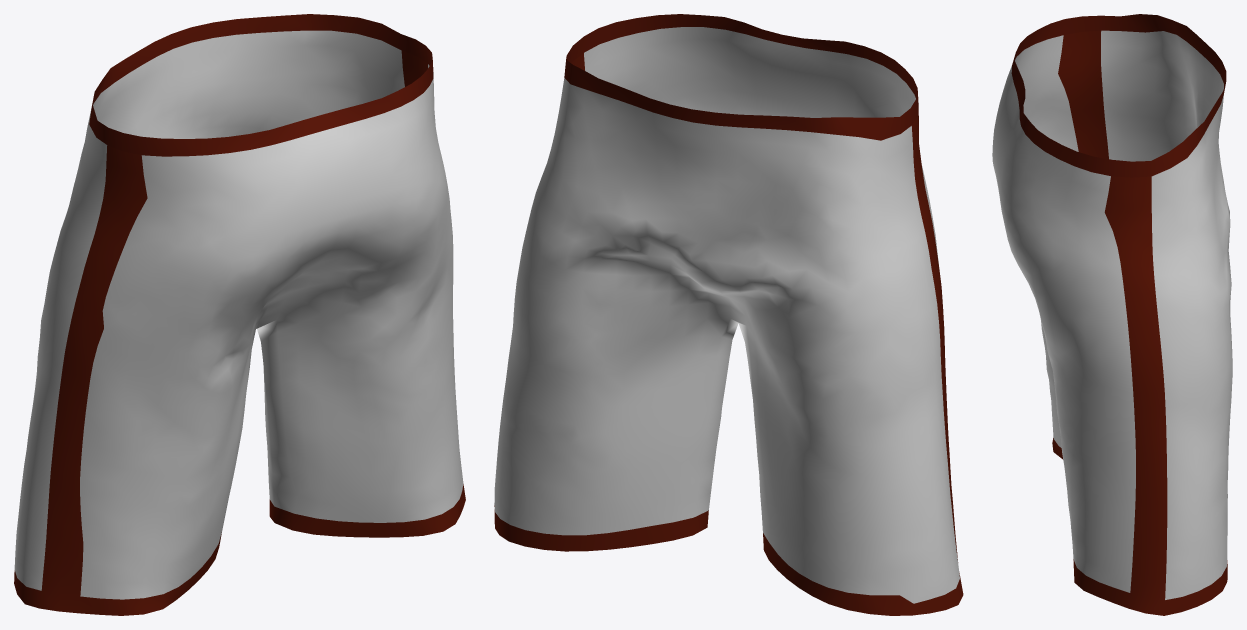
The model's file is shorts.fbx.
The picture shows the model from 3 angles, left to right: view 1: azimuth 30°, elevation 25°; view 2: azimuth 150°, elevation 25°; view 3: azimuth 270°, elevation 25°; orthographic projection. The views are drawn at different scales.
Visible parts, largest first — view 1: shorts; view 2: shorts; view 3: shorts.
Boxes of the visible parts, <box> form: shorts: <box>14,14,465,615</box>; shorts: <box>494,14,963,615</box>; shorts: <box>992,14,1232,615</box>.
Size of the model in its own units: 4.86 by 5.1 by 2.5.
